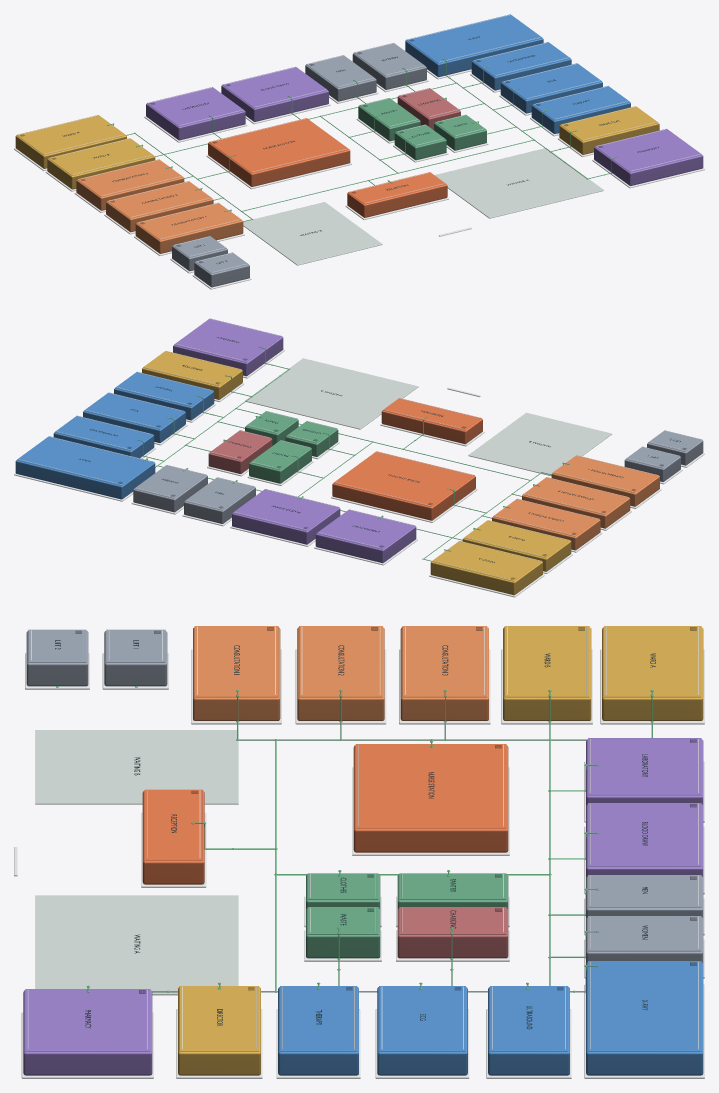
The model's file is L1__flat.glb.
3 renders of one model, top to bottom at view 1: azimuth 30°, elevation 25°; view 2: azimuth 150°, elevation 25°; view 3: azimuth 270°, elevation 25°, orthographic. The views are drawn at different scales.
Parts seen in each view (by area): view 1: waiting_a_SolidTile.003, waiting_b_SolidTile.003, nurse_station_TopCap.002, xray_TopCap.002, pharmacy_TopCap.002, blood_draw_TopCap.002, ward_a_TopCap.002, laboratory_TopCap.002, nurse_station_ColorBlock.003, consult_3_TopCap.002, ward_b_TopCap.002, consult_2_TopCap.002 (+36 smaller); view 2: waiting_a_SolidTile.003, waiting_b_SolidTile.003, nurse_station_TopCap.002, xray_TopCap.002, pharmacy_TopCap.002, blood_draw_TopCap.002, ward_a_TopCap.002, laboratory_TopCap.002, nurse_station_ColorBlock.003, ward_b_TopCap.002, consult_3_TopCap.002, consult_2_TopCap.002 (+35 smaller); view 3: waiting_a_SolidTile.003, waiting_b_SolidTile.003, nurse_station_TopCap.002, xray_TopCap.002, pharmacy_TopCap.002, blood_draw_TopCap.002, ward_a_TopCap.002, laboratory_TopCap.002, ward_b_TopCap.002, consult_3_TopCap.002, consult_1_TopCap.002, consult_2_TopCap.002 (+41 smaller).
Part boxes in pixels (<box>): waiting_a_SolidTile.003: <box>434,148,603,218</box>; waiting_b_SolidTile.003: <box>243,202,382,265</box>; nurse_station_TopCap.002: <box>209,118,349,173</box>; xray_TopCap.002: <box>406,14,542,63</box>; pharmacy_TopCap.002: <box>595,128,701,172</box>; blood_draw_TopCap.002: <box>222,66,327,108</box>; ward_a_TopCap.002: <box>17,115,125,155</box>; laboratory_TopCap.002: <box>147,87,244,126</box>; nurse_station_ColorBlock.003: <box>208,142,350,186</box>; consult_3_TopCap.002: <box>77,159,182,197</box>; ward_b_TopCap.002: <box>48,138,153,175</box>; consult_2_TopCap.002: <box>107,181,212,218</box>; waiting_a_SolidTile.003: <box>245,358,418,429</box>; waiting_b_SolidTile.003: <box>468,412,611,476</box>; nurse_station_TopCap.002: <box>333,451,474,506</box>; xray_TopCap.002: <box>17,436,153,485</box>; pharmacy_TopCap.002: <box>174,318,282,362</box>; blood_draw_TopCap.002: <box>233,489,339,530</box>; ward_a_TopCap.002: <box>431,541,541,581</box>; laboratory_TopCap.002: <box>316,509,415,549</box>; nurse_station_ColorBlock.003: <box>332,476,475,520</box>; ward_b_TopCap.002: <box>464,520,570,557</box>; consult_3_TopCap.002: <box>493,498,599,536</box>; consult_2_TopCap.002: <box>523,477,629,514</box>; waiting_a_SolidTile.003: <box>35,895,238,995</box>; waiting_b_SolidTile.003: <box>35,730,238,804</box>; nurse_station_TopCap.002: <box>355,744,506,828</box>; xray_TopCap.002: <box>588,961,701,1051</box>; pharmacy_TopCap.002: <box>25,989,150,1051</box>; blood_draw_TopCap.002: <box>588,803,701,866</box>; ward_a_TopCap.002: <box>604,626,701,697</box>; laboratory_TopCap.002: <box>588,738,701,795</box>; ward_b_TopCap.002: <box>504,626,589,697</box>; consult_3_TopCap.002: <box>402,626,487,697</box>; consult_1_TopCap.002: <box>194,626,278,697</box>; consult_2_TopCap.002: <box>299,626,382,697</box>.
Size of what is drawn, in the model's own units: 37.05 by 1.17 by 25.29.
